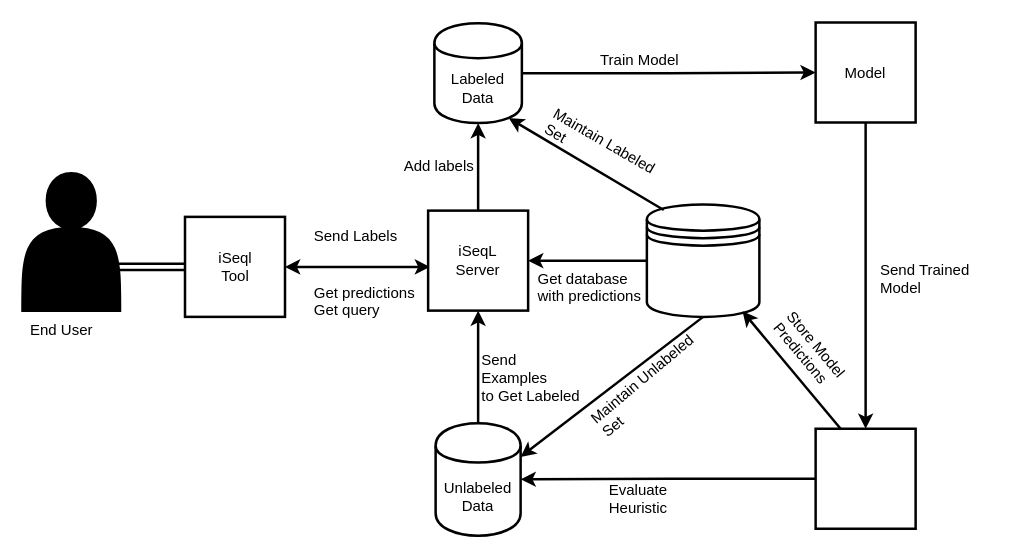
The diagram is 1013 pixels wide and 559 high, and some of its shapes have lost their labels. The centre of each missing label's shape, as x and y in pixels:
"Active Learning Manager" goes at pixel 865 478.
"Database" goes at pixel 702 260.
